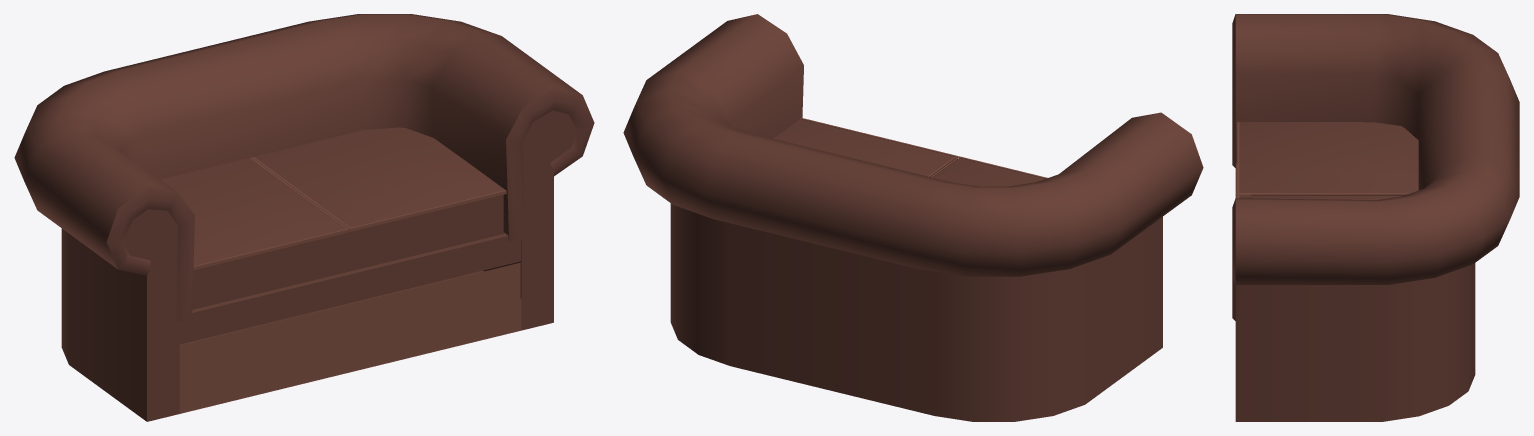
File: sofa_023.glb
3 renders of one model, left to right at view 1: azimuth 30°, elevation 25°; view 2: azimuth 150°, elevation 25°; view 3: azimuth 270°, elevation 25°, orthographic. The views are drawn at different scales.
Parts seen in each view (by area): view 1: sofa_023; view 2: sofa_023; view 3: sofa_023.
Boxes of the visible parts, x1=… form: sofa_023: x1=14, y1=14, x2=594, y2=421; sofa_023: x1=623, y1=14, x2=1203, y2=421; sofa_023: x1=1232, y1=14, x2=1519, y2=421.
Size of the model in its own units: 1.84 by 0.848 by 0.9996.
Materials: 1 (1 with a texture image).
